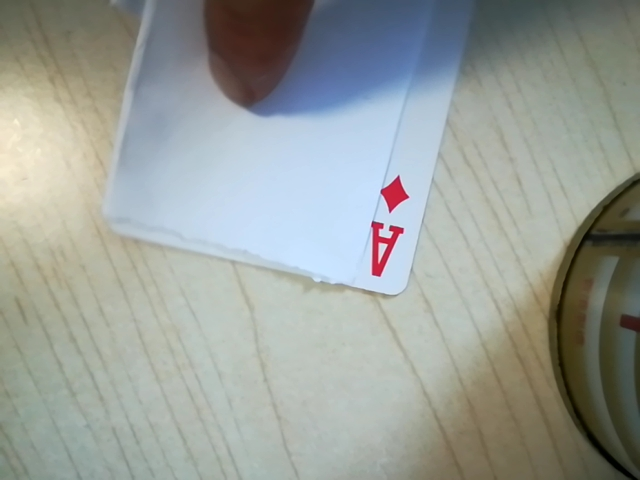fk a: (356, 171, 411, 287)
